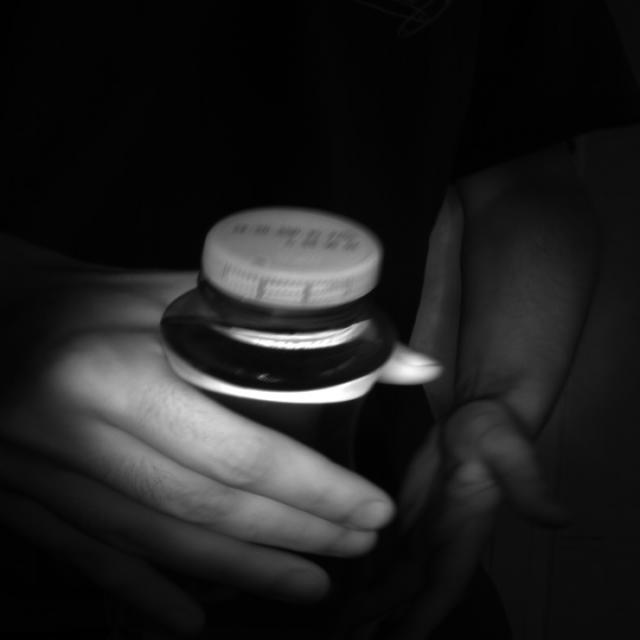Not Good: (200, 210, 382, 321)
